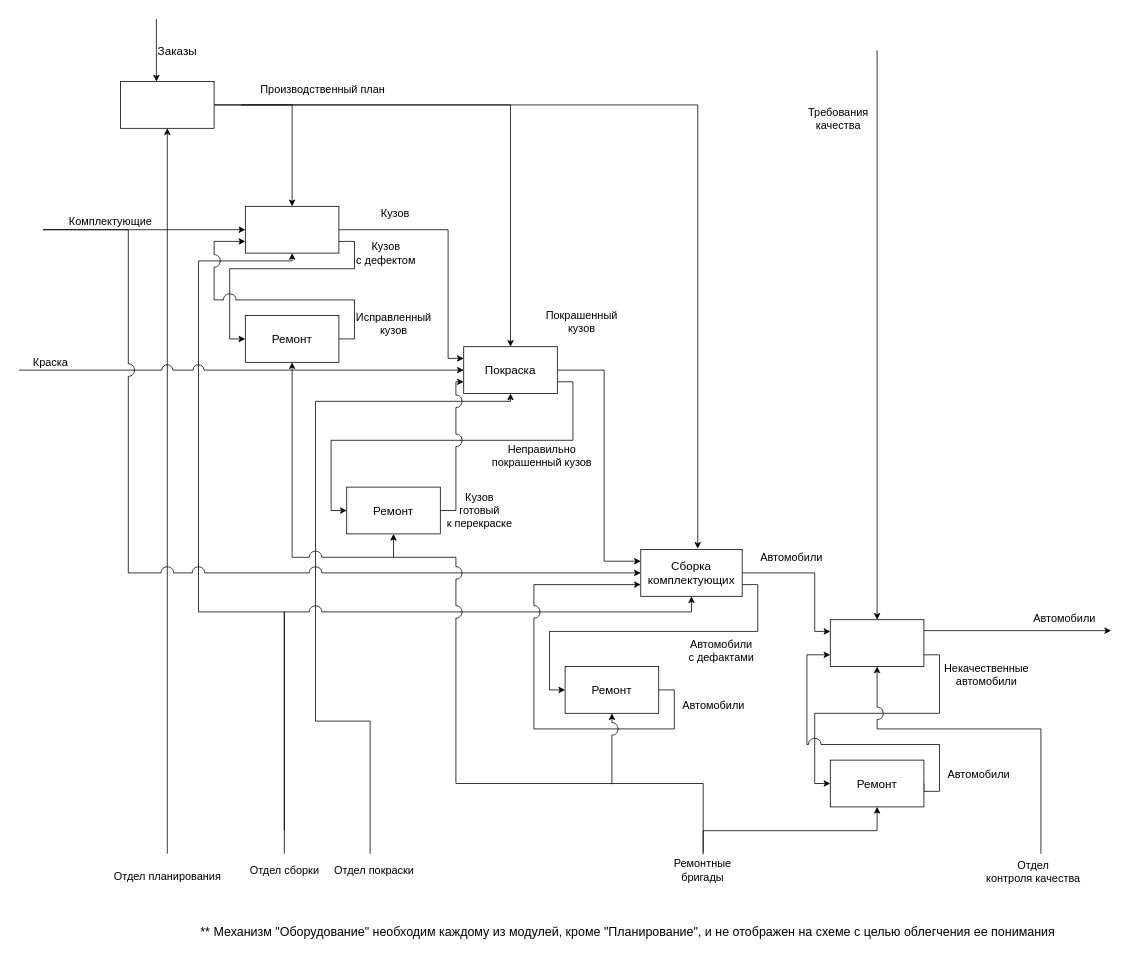
The diagram is 1131 pixels wide and 961 high, and some of its shapes have lost their labels. The box of each missing label's shape, as (x1, y1, x2, y2) in pixels:
Контроль качества: (830, 619, 924, 667)
Планирование: (120, 81, 214, 128)
Сборка кузова: (245, 206, 339, 253)
